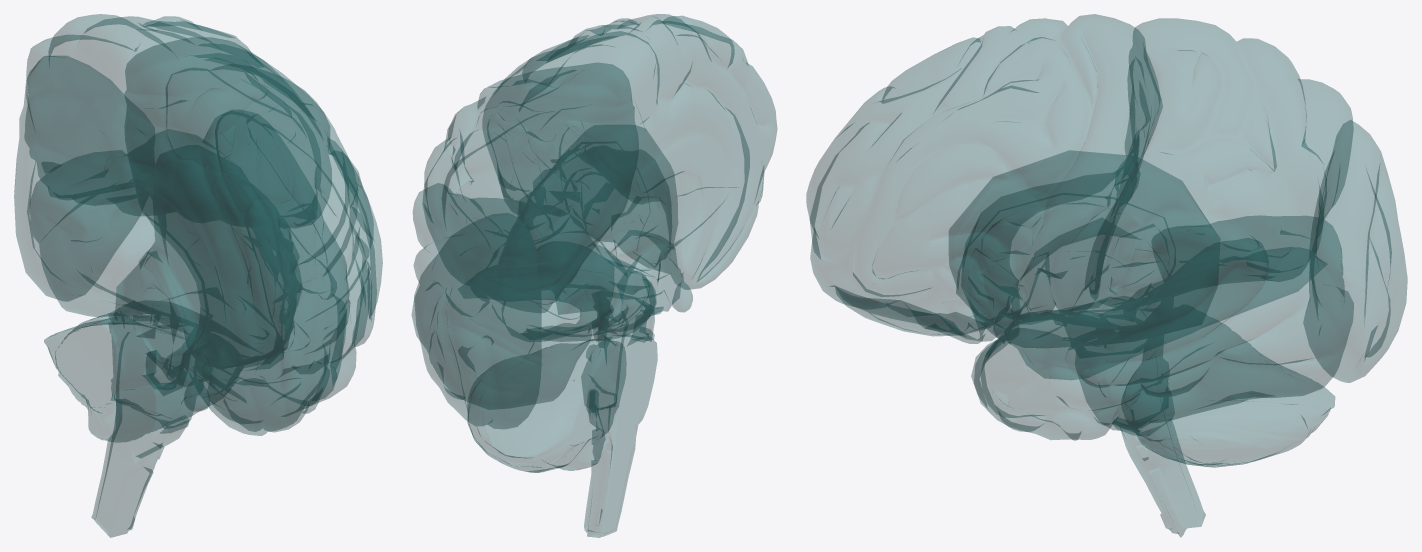
Rendered from Transperent Half Brain.gltf.
3 views of the same model, side by side, from view 1: azimuth 30°, elevation 25°; view 2: azimuth 150°, elevation 25°; view 3: azimuth 270°, elevation 25° (orthographic). The views are drawn at different scales.
Visible parts, largest first — view 1: Frontal_Lobe_Left, Parietal_Lobe_Left, Nervous_Brain_Stem_1, Temporal_Lobe_Left, Occipital_Lob_Left, Nervous_Full_Cerebellum_2, Pituitary_Gland1; view 2: Frontal_Lobe_Left, Parietal_Lobe_Left, Nervous_Brain_Stem_1, Temporal_Lobe_Left, Occipital_Lob_Left, Nervous_Full_Cerebellum_2, Pituitary_Gland1; view 3: Frontal_Lobe_Left, Parietal_Lobe_Left, Temporal_Lobe_Left, Nervous_Brain_Stem_1, Nervous_Full_Cerebellum_2, Occipital_Lob_Left.
Boxes of the visible parts, x1=… form: Frontal_Lobe_Left: x1=124, y1=37, x2=382, y2=435; Parietal_Lobe_Left: x1=24, y1=14, x2=331, y2=228; Nervous_Brain_Stem_1: x1=91, y1=145, x2=302, y2=537; Temporal_Lobe_Left: x1=30, y1=128, x2=349, y2=432; Occipital_Lob_Left: x1=14, y1=56, x2=139, y2=301; Nervous_Full_Cerebellum_2: x1=44, y1=313, x2=241, y2=442; Pituitary_Gland1: x1=184, y1=366, x2=209, y2=411; Frontal_Lobe_Left: x1=482, y1=14, x2=777, y2=289; Parietal_Lobe_Left: x1=422, y1=63, x2=638, y2=312; Nervous_Brain_Stem_1: x1=511, y1=125, x2=681, y2=537; Temporal_Lobe_Left: x1=411, y1=183, x2=656, y2=409; Occipital_Lob_Left: x1=414, y1=213, x2=541, y2=428; Nervous_Full_Cerebellum_2: x1=467, y1=339, x2=626, y2=472; Pituitary_Gland1: x1=672, y1=273, x2=692, y2=312; Frontal_Lobe_Left: x1=806, y1=14, x2=1162, y2=343; Parietal_Lobe_Left: x1=1085, y1=18, x2=1353, y2=309; Temporal_Lobe_Left: x1=971, y1=215, x2=1353, y2=440; Nervous_Brain_Stem_1: x1=949, y1=150, x2=1220, y2=537; Nervous_Full_Cerebellum_2: x1=1121, y1=321, x2=1334, y2=467; Occipital_Lob_Left: x1=1303, y1=120, x2=1407, y2=382.
Size of the model in its own units: 6.83 by 15.71 by 16.52.
